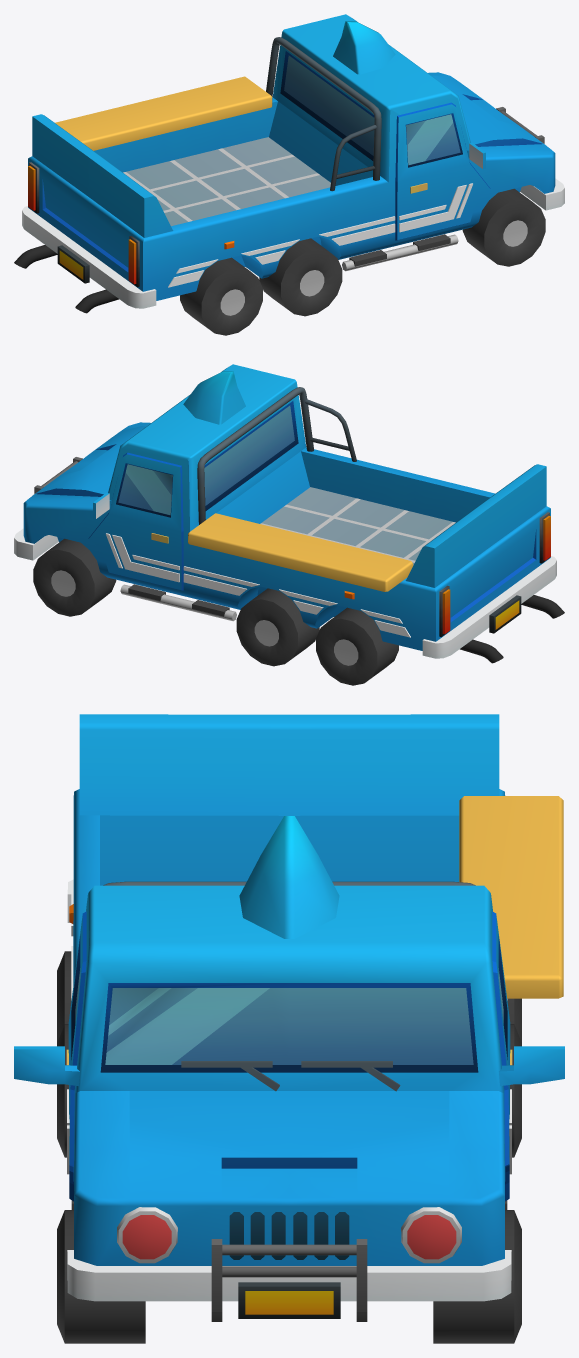
File: Map02_Xetai.fbx
3 renders of one model, top to bottom at view 1: azimuth 30°, elevation 25°; view 2: azimuth 150°, elevation 25°; view 3: azimuth 270°, elevation 25°, orthographic. The views are drawn at different scales.
Parts seen in each view (by area): view 1: Map02_Xetai; view 2: Map02_Xetai; view 3: Map02_Xetai.
Boxes of the visible parts, x1,y1,x2,y2 form: Map02_Xetai: [14, 14, 564, 335]; Map02_Xetai: [14, 364, 564, 685]; Map02_Xetai: [14, 714, 564, 1343].
Bounding box in the file's own units: 1943 × 875 × 1035.
